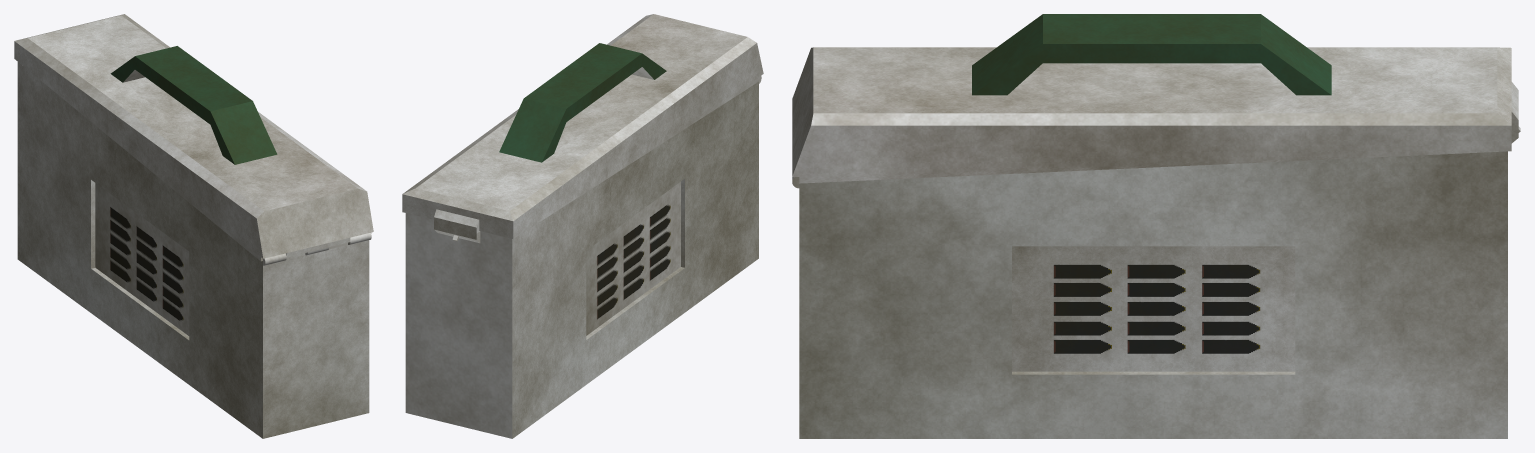
Rendered from pickup_ammo_generic.dae.
3 renders of one model, left to right at view 1: azimuth 30°, elevation 25°; view 2: azimuth 150°, elevation 25°; view 3: azimuth 270°, elevation 25°, orthographic. The views are drawn at different scales.
Visible parts, largest first — view 1: SketchUp.005; view 2: SketchUp.005; view 3: SketchUp.005.
Part boxes in pixels (bbox=[...]): SketchUp.005: bbox=[14, 14, 373, 438]; SketchUp.005: bbox=[402, 14, 763, 438]; SketchUp.005: bbox=[792, 14, 1520, 438].
Size of the model in its own units: 0.13 by 0.514 by 0.29.
Materials: 1 (1 with a texture image).
